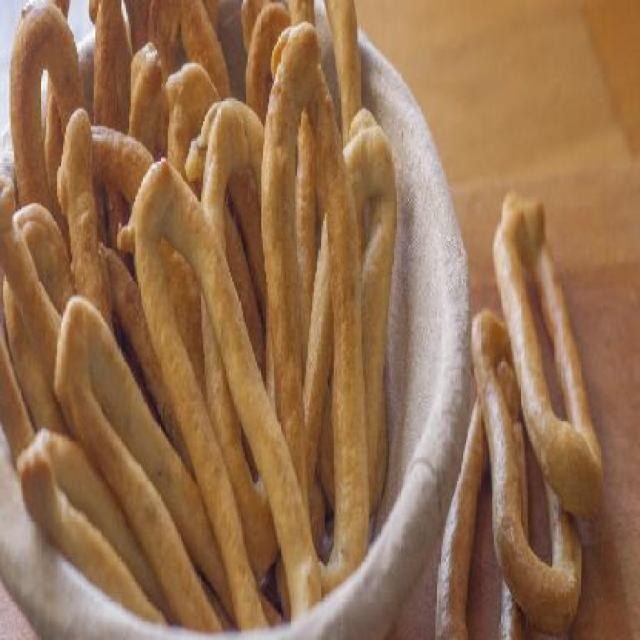Taralli: (5, 4, 401, 620), (447, 192, 604, 638)
